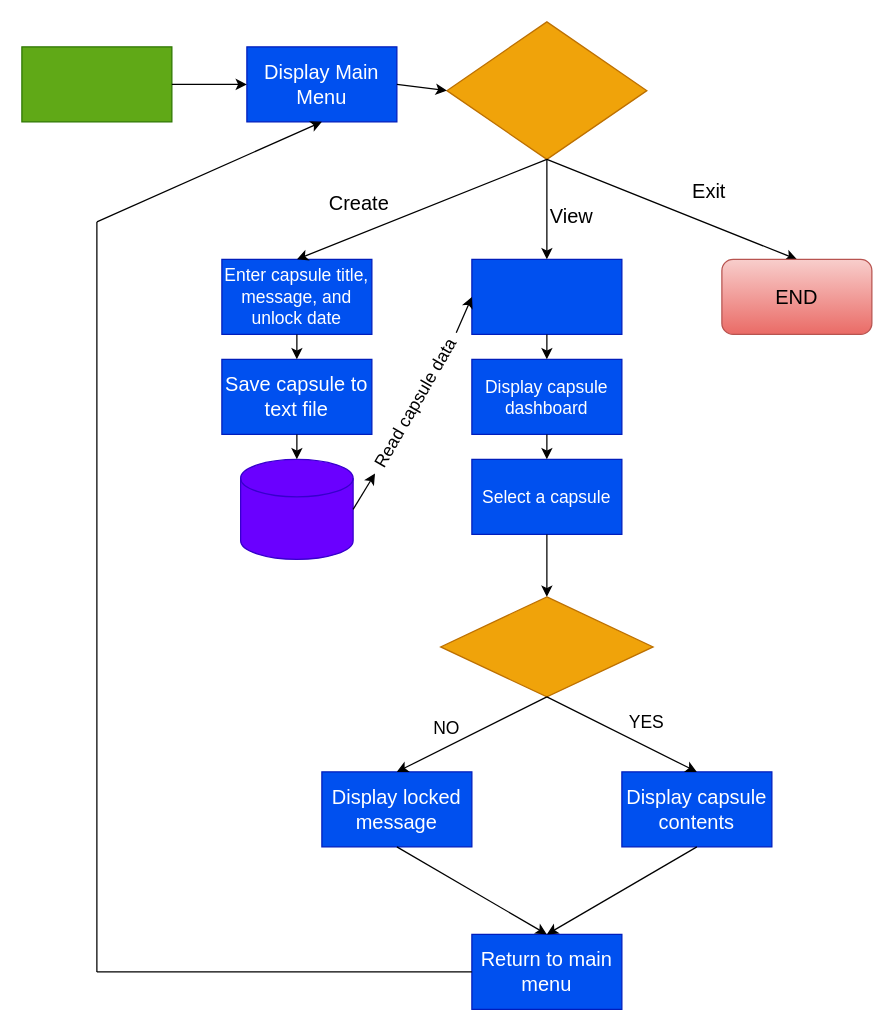
This 894x1031 diagram has some shape labels left out. Here are the shapes that lost their labels. From the top down, the box of each, then its label:
(21, 46, 172, 122): START Run main.java
(446, 21, 647, 159): User selects an option
(471, 258, 622, 334): Read saved capsule files
(239, 458, 353, 559): Capsules folder
(439, 596, 653, 697): Has the unlock date arrived?
